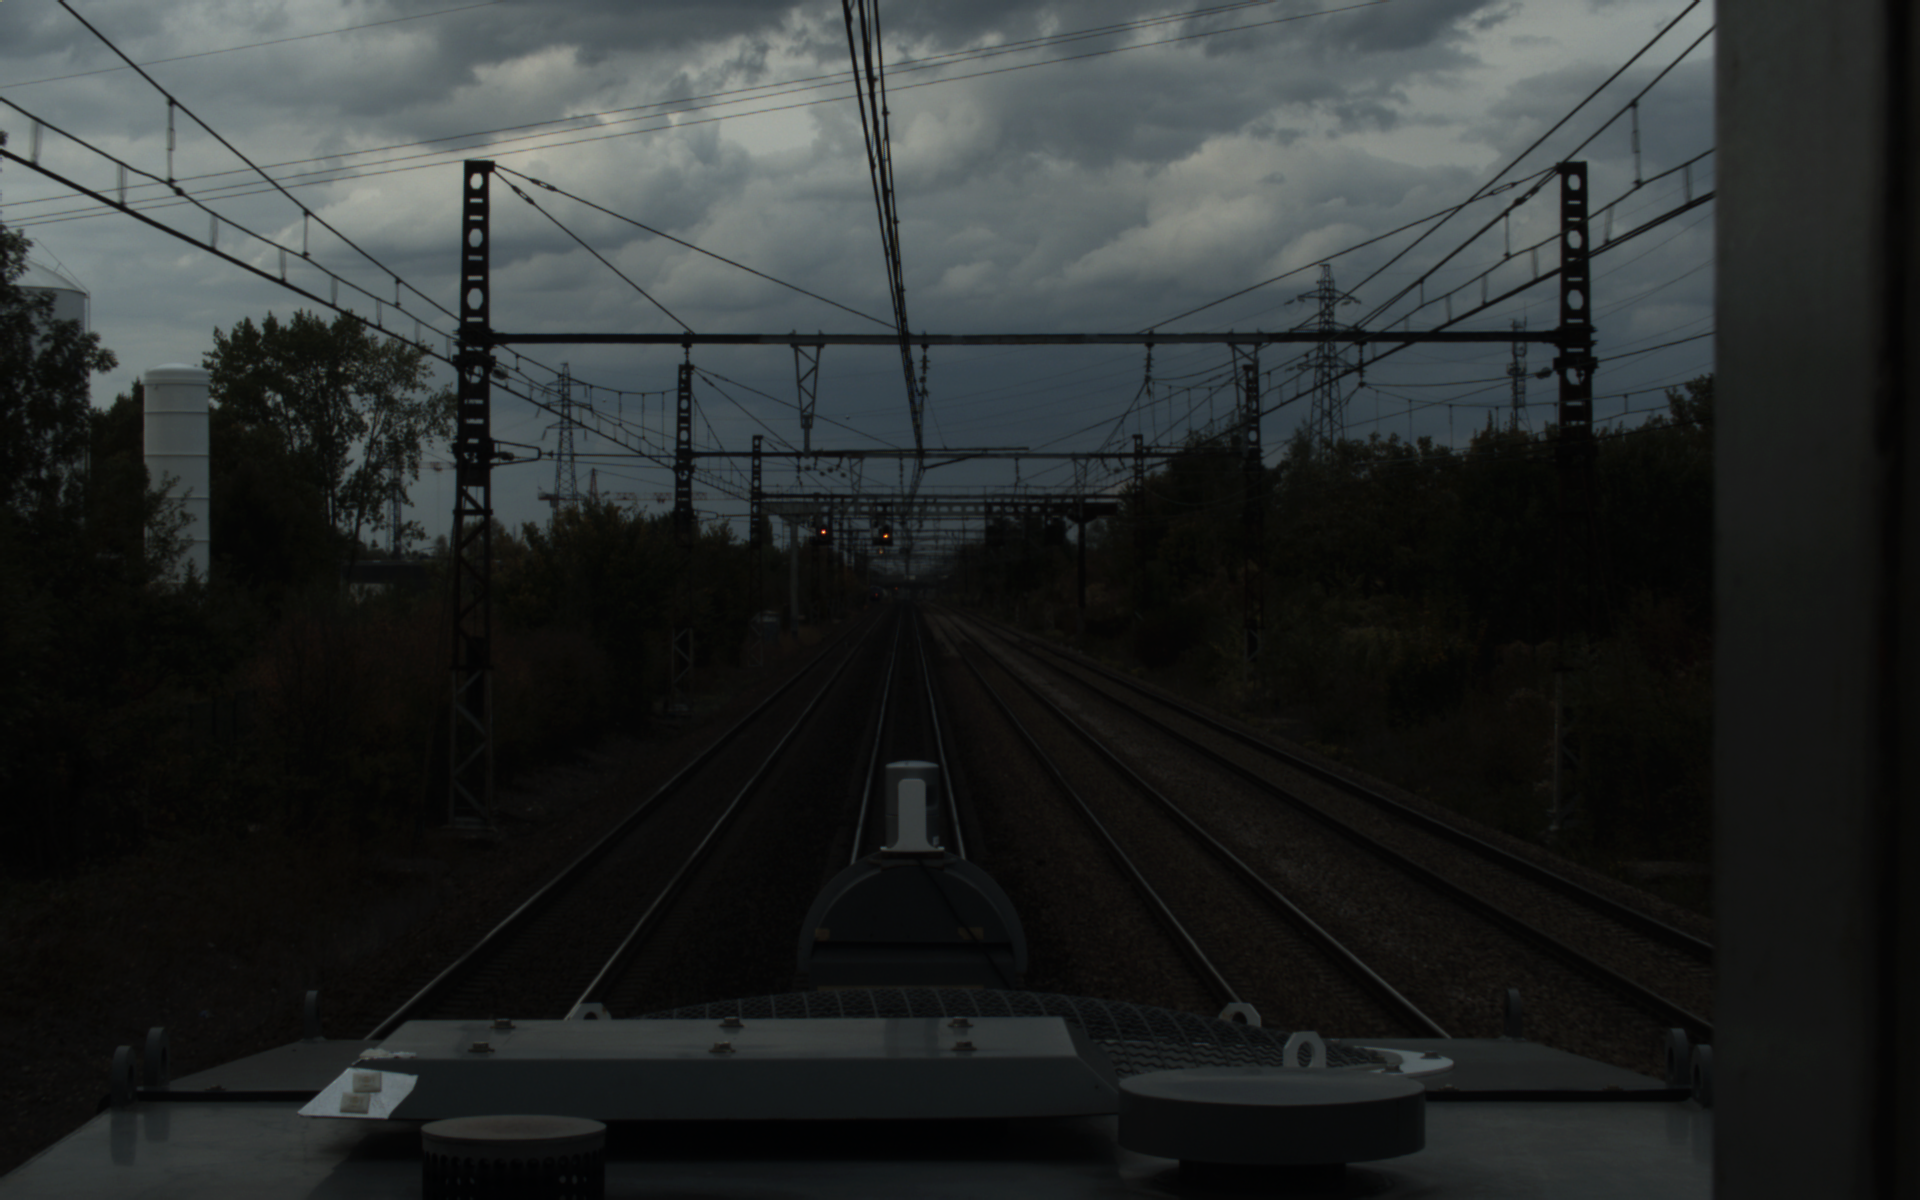Blinking: (879, 523, 893, 543)
Fixed: (816, 523, 829, 541)
